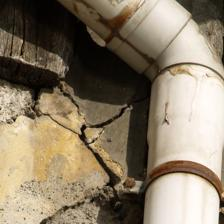Crack: (7, 26, 118, 120), (0, 12, 63, 75), (17, 7, 71, 80), (26, 0, 58, 79)
